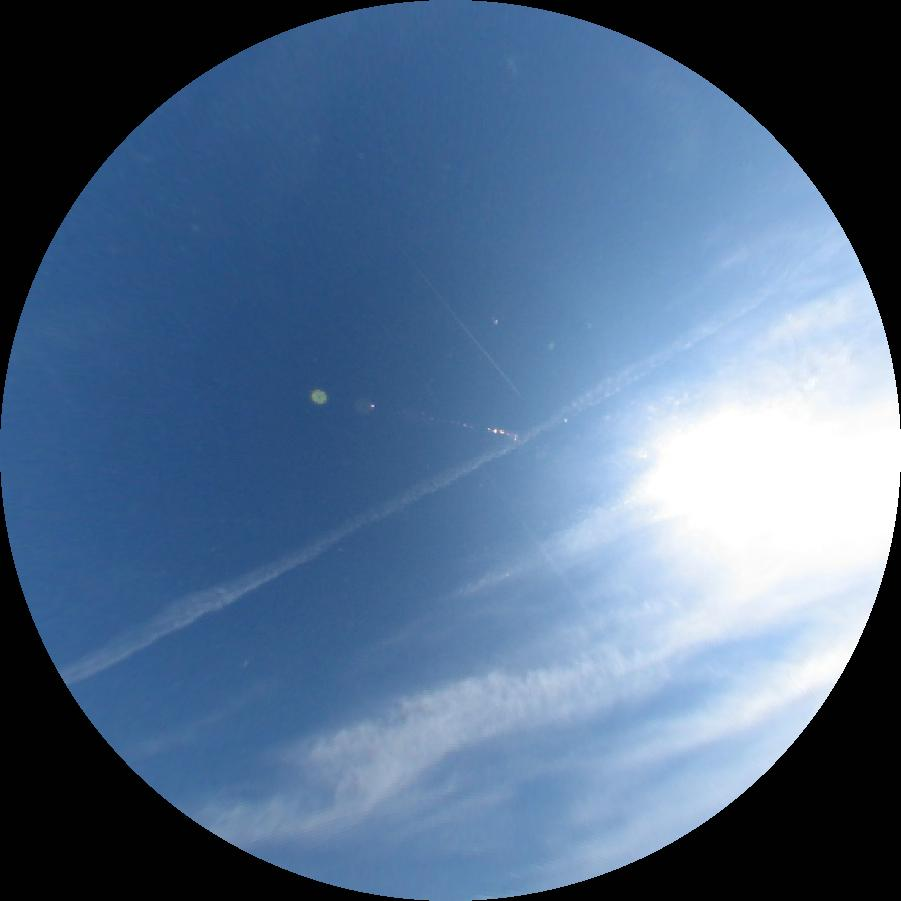contrail old: (58, 291, 773, 685), (496, 488, 587, 613)
contrail veryold: (188, 544, 837, 859)
contrail young: (411, 261, 522, 397)
sun: (671, 411, 897, 547)
